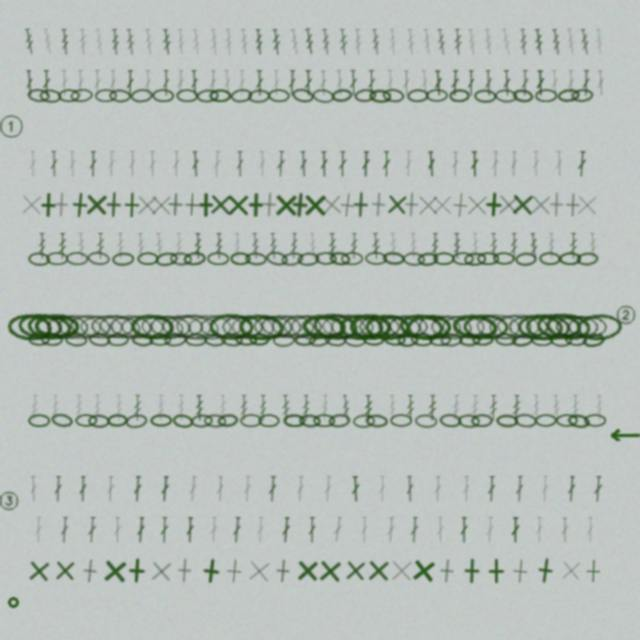chain: (312, 311, 359, 342), (545, 311, 592, 342), (174, 312, 221, 342), (451, 312, 498, 342), (26, 312, 72, 342), (97, 312, 143, 342), (139, 312, 185, 342), (398, 312, 444, 342), (17, 312, 63, 341), (475, 312, 521, 341), (536, 312, 582, 341), (68, 312, 113, 341), (108, 312, 153, 341), (259, 312, 304, 341), (56, 313, 102, 341), (238, 313, 284, 341), (289, 313, 335, 341), (376, 313, 422, 341), (517, 313, 563, 341), (525, 313, 571, 341), (576, 313, 622, 341), (7, 313, 52, 341), (130, 313, 175, 341), (148, 313, 193, 341), (230, 313, 275, 341), (270, 313, 315, 341), (301, 313, 346, 341), (417, 313, 462, 341), (429, 313, 474, 341), (89, 313, 135, 340), (251, 313, 295, 341), (34, 313, 79, 340), (209, 313, 254, 340), (321, 313, 366, 340), (330, 313, 375, 340), (496, 313, 541, 340), (45, 313, 89, 340), (160, 313, 204, 340), (168, 313, 212, 340), (199, 313, 243, 340), (220, 313, 264, 340), (357, 313, 401, 340), (120, 314, 165, 340), (187, 314, 232, 340), (339, 314, 384, 340), (406, 314, 451, 340), (441, 314, 486, 340), (463, 314, 508, 340), (554, 314, 599, 340), (281, 313, 324, 340), (349, 313, 392, 340), (387, 313, 430, 340), (507, 313, 550, 340), (79, 314, 123, 340), (365, 314, 409, 340), (488, 314, 532, 340), (566, 314, 609, 340), (291, 87, 315, 104), (265, 250, 289, 267), (50, 412, 74, 429), (312, 88, 335, 104), (155, 251, 178, 267), (281, 251, 304, 267), (308, 332, 331, 348), (511, 332, 534, 348), (582, 332, 605, 348), (125, 413, 148, 429), (567, 413, 590, 429), (512, 88, 534, 104), (172, 413, 194, 429), (27, 88, 50, 103), (70, 88, 93, 103), (130, 88, 153, 103), (230, 88, 253, 103), (354, 88, 377, 103), (382, 88, 405, 103), (557, 88, 580, 103), (571, 88, 594, 103), (87, 251, 110, 266), (183, 251, 206, 266), (382, 251, 405, 266), (40, 332, 63, 347), (88, 332, 111, 347), (164, 332, 187, 347), (220, 332, 243, 347), (294, 332, 317, 347), (324, 332, 347, 347), (410, 332, 433, 347), (564, 332, 587, 347), (328, 413, 351, 428), (439, 413, 462, 428), (514, 413, 537, 428), (331, 88, 353, 103), (329, 251, 351, 266), (217, 413, 239, 428), (39, 89, 62, 103), (196, 89, 219, 103), (297, 252, 320, 266), (576, 252, 599, 266), (131, 333, 154, 347), (440, 333, 463, 347), (365, 414, 388, 428), (109, 89, 131, 103), (248, 89, 270, 103), (369, 89, 391, 103), (474, 89, 496, 103), (495, 89, 517, 103), (28, 252, 50, 266), (112, 252, 134, 266), (170, 252, 192, 266), (245, 252, 267, 266), (403, 252, 425, 266), (417, 252, 439, 266), (464, 252, 486, 266), (515, 252, 537, 266), (65, 333, 87, 347), (204, 333, 226, 347), (273, 333, 295, 347), (344, 333, 366, 347), (397, 333, 419, 347), (459, 333, 481, 347), (550, 333, 572, 347), (88, 414, 110, 428), (191, 414, 213, 428), (204, 414, 226, 428), (299, 414, 321, 428), (353, 414, 375, 428), (415, 414, 437, 428), (458, 414, 480, 428), (496, 414, 518, 428), (58, 89, 80, 102), (95, 89, 117, 102), (152, 89, 174, 102), (176, 89, 198, 102), (209, 89, 231, 102), (268, 89, 290, 102), (407, 89, 429, 102), (426, 89, 448, 102), (535, 89, 557, 102), (46, 252, 68, 265), (66, 252, 88, 265), (137, 252, 159, 265), (207, 252, 229, 265), (315, 252, 337, 265), (341, 252, 363, 265), (365, 252, 387, 265), (433, 252, 455, 265), (452, 252, 474, 265), (477, 252, 499, 265), (493, 252, 515, 265), (539, 252, 561, 265), (559, 252, 581, 265), (28, 333, 50, 346), (107, 333, 129, 346), (149, 333, 171, 346), (185, 333, 207, 346), (235, 333, 257, 346), (363, 333, 385, 346), (384, 333, 406, 346), (429, 333, 451, 346), (472, 333, 494, 346), (495, 333, 517, 346), (531, 333, 553, 346), (28, 414, 50, 427), (75, 414, 97, 427), (150, 414, 172, 427), (240, 414, 262, 427), (258, 414, 280, 427), (283, 414, 305, 427), (313, 414, 335, 427), (390, 414, 412, 427), (471, 414, 493, 427), (535, 414, 557, 427), (556, 414, 578, 427), (584, 414, 606, 427), (449, 89, 470, 102), (230, 252, 251, 265), (249, 333, 270, 346), (107, 414, 128, 427)
double: (332, 516, 344, 543), (450, 70, 460, 96), (502, 70, 512, 96), (212, 151, 222, 177), (276, 151, 286, 177), (577, 151, 587, 177), (160, 476, 170, 502), (188, 476, 198, 502), (323, 476, 333, 502), (540, 476, 550, 502), (593, 476, 603, 502), (87, 517, 97, 543), (136, 517, 146, 543), (232, 517, 242, 543), (281, 517, 291, 543), (386, 517, 396, 543), (485, 517, 495, 543), (25, 70, 34, 96), (42, 70, 51, 96), (60, 70, 69, 96), (76, 70, 85, 96), (93, 70, 102, 96), (176, 70, 185, 96), (190, 70, 199, 96), (208, 70, 217, 96), (223, 70, 232, 96), (255, 70, 264, 96), (272, 70, 281, 96), (304, 70, 313, 96), (335, 70, 344, 96), (349, 70, 358, 96), (367, 70, 376, 96), (402, 70, 411, 96), (420, 70, 429, 96), (434, 70, 443, 96), (484, 70, 493, 96), (536, 70, 545, 96), (550, 70, 559, 96), (596, 70, 605, 96), (68, 151, 77, 177), (107, 151, 116, 177), (148, 151, 157, 177), (191, 151, 200, 177), (299, 151, 308, 177), (338, 151, 347, 177), (382, 151, 391, 177), (404, 151, 413, 177), (427, 151, 436, 177), (470, 151, 479, 177), (29, 476, 38, 502), (106, 476, 115, 502), (133, 476, 142, 502), (243, 476, 252, 502), (268, 476, 277, 502), (296, 476, 305, 502), (351, 476, 360, 502), (433, 476, 442, 502), (487, 476, 496, 502), (515, 476, 524, 502), (567, 476, 576, 502), (34, 517, 43, 543), (60, 517, 69, 543), (113, 517, 122, 543), (160, 517, 169, 543), (209, 517, 218, 543), (256, 517, 265, 543), (410, 517, 419, 543), (436, 517, 445, 543), (511, 517, 520, 543), (109, 70, 117, 96), (126, 70, 134, 96), (144, 70, 152, 96), (162, 70, 170, 96), (238, 70, 246, 96), (288, 70, 296, 96), (319, 70, 327, 96), (386, 70, 394, 96), (467, 70, 475, 96), (521, 70, 529, 96), (567, 70, 575, 96), (582, 70, 590, 96), (29, 151, 37, 177), (50, 151, 58, 177), (89, 151, 97, 177), (128, 151, 136, 177), (172, 151, 180, 177), (236, 151, 244, 177), (258, 151, 266, 177), (320, 151, 328, 177), (362, 151, 370, 177), (451, 151, 459, 177), (491, 151, 499, 177), (510, 151, 518, 177), (532, 151, 540, 177), (555, 151, 563, 177), (54, 476, 62, 502), (79, 476, 87, 502), (216, 476, 224, 502), (378, 476, 386, 502), (406, 476, 414, 502), (462, 476, 470, 502), (186, 517, 194, 543), (308, 517, 316, 543), (360, 517, 368, 543), (460, 517, 468, 543), (535, 517, 543, 543), (561, 517, 569, 543), (586, 517, 594, 543)
noise: (0, 113, 25, 140), (614, 303, 638, 327), (0, 489, 21, 513), (608, 429, 640, 441), (7, 596, 19, 608)
single: (409, 556, 438, 585), (531, 556, 560, 585), (66, 191, 94, 219), (286, 191, 314, 219), (333, 191, 361, 219), (446, 191, 474, 219), (25, 557, 53, 585), (76, 557, 104, 585), (101, 557, 129, 585), (147, 557, 175, 585), (197, 557, 225, 585), (220, 557, 248, 585), (245, 557, 273, 585), (269, 557, 297, 585), (316, 557, 344, 585), (433, 557, 461, 585), (506, 557, 534, 585), (18, 191, 45, 218), (48, 191, 75, 218), (83, 191, 110, 218), (100, 191, 127, 218), (162, 191, 189, 218), (178, 191, 205, 218), (207, 191, 234, 218), (256, 191, 283, 218), (318, 191, 345, 218), (347, 191, 374, 218), (365, 191, 392, 218), (398, 191, 425, 218), (480, 191, 507, 218), (495, 191, 522, 218), (509, 191, 536, 218), (527, 191, 554, 218), (543, 191, 570, 218), (123, 557, 150, 584), (171, 557, 198, 584), (294, 557, 321, 584), (342, 557, 369, 584), (365, 557, 392, 584), (388, 557, 415, 584), (384, 191, 410, 218), (52, 557, 78, 584), (558, 557, 584, 584), (35, 192, 61, 218), (119, 192, 145, 218), (134, 192, 160, 218), (148, 192, 174, 218), (193, 192, 219, 218), (225, 192, 251, 218), (243, 192, 269, 218), (273, 192, 299, 218), (302, 192, 328, 218), (415, 192, 441, 218), (429, 192, 455, 218), (464, 192, 490, 218), (560, 192, 586, 218), (574, 192, 600, 218), (459, 558, 485, 584), (483, 558, 509, 584), (580, 558, 606, 584)
treble: (23, 28, 36, 55), (303, 28, 316, 55), (500, 28, 513, 55), (42, 28, 54, 55), (565, 28, 577, 55), (143, 29, 155, 55), (161, 29, 173, 55), (466, 29, 478, 55), (533, 29, 545, 55), (579, 29, 591, 55), (94, 29, 105, 55), (125, 29, 136, 55), (239, 29, 250, 55), (271, 29, 282, 55), (289, 29, 300, 55), (338, 29, 349, 55), (436, 29, 447, 55), (483, 29, 494, 55), (551, 29, 562, 55), (60, 29, 70, 55), (78, 29, 88, 55), (176, 29, 186, 55), (191, 29, 201, 55), (209, 29, 219, 55), (254, 29, 264, 55), (321, 29, 331, 55), (353, 29, 363, 55), (371, 29, 381, 55), (406, 29, 416, 55), (422, 29, 432, 55), (453, 29, 463, 55), (136, 233, 146, 259), (308, 233, 318, 259), (371, 233, 381, 259), (529, 233, 539, 259), (588, 233, 598, 259), (281, 395, 291, 421), (341, 395, 351, 421), (451, 395, 461, 421), (470, 395, 480, 421), (111, 29, 120, 55), (224, 29, 233, 55), (388, 29, 397, 55), (519, 29, 528, 55), (595, 29, 604, 55), (58, 233, 67, 259), (77, 233, 86, 259), (96, 233, 105, 259), (116, 233, 125, 259), (155, 233, 164, 259), (251, 233, 260, 259), (269, 233, 278, 259), (328, 233, 337, 259), (389, 233, 398, 259), (409, 233, 418, 259), (471, 233, 480, 259), (547, 233, 556, 259), (569, 233, 578, 259), (30, 395, 39, 421), (51, 395, 60, 421), (93, 395, 102, 421), (133, 395, 142, 421), (195, 395, 204, 421), (320, 395, 329, 421), (364, 395, 373, 421), (406, 395, 415, 421), (428, 395, 437, 421), (489, 395, 498, 421), (512, 395, 521, 421), (552, 395, 561, 421), (571, 395, 580, 421), (38, 233, 46, 259), (175, 233, 183, 259), (194, 233, 202, 259), (215, 233, 223, 259), (233, 233, 241, 259), (290, 233, 298, 259), (350, 233, 358, 259), (431, 233, 439, 259), (453, 233, 461, 259), (490, 233, 498, 259), (510, 233, 518, 259), (75, 395, 83, 421), (115, 395, 123, 421), (157, 395, 165, 421), (177, 395, 185, 421), (219, 395, 227, 421), (240, 395, 248, 421), (259, 395, 267, 421), (302, 395, 310, 421), (388, 395, 396, 421), (532, 395, 540, 421), (595, 395, 603, 421)
